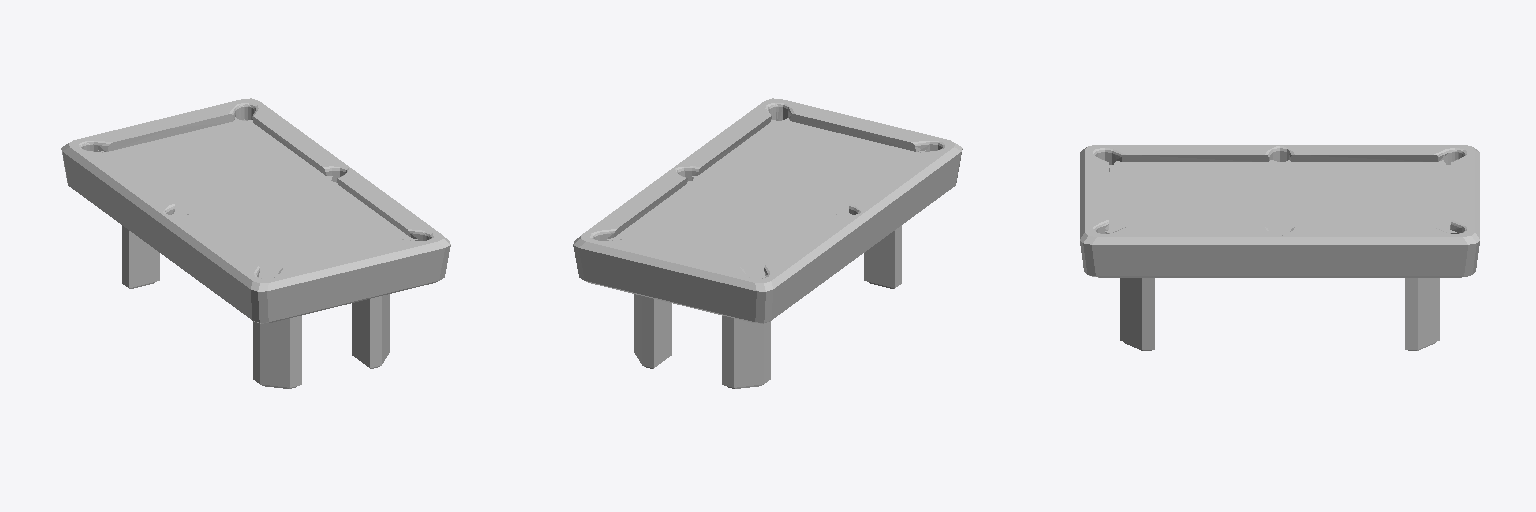
Rendered from mesa_pool.obj.
3 views of the same model, side by side, from view 1: azimuth 30°, elevation 25°; view 2: azimuth 150°, elevation 25°; view 3: azimuth 270°, elevation 25° (orthographic).
Visible parts, largest first — view 1: Cube, Plane; view 2: Cube, Plane; view 3: Cube, Plane.
Boxes of the visible parts, box(x1,y1,x2,y2) form: Cube: box(61, 98, 450, 388); Plane: box(98, 117, 417, 277); Cube: box(573, 98, 962, 388); Plane: box(607, 118, 925, 277); Cube: box(1080, 145, 1479, 350); Plane: box(1105, 160, 1456, 235).
Size of the model in its own units: 1.26 by 0.7898 by 2.2.